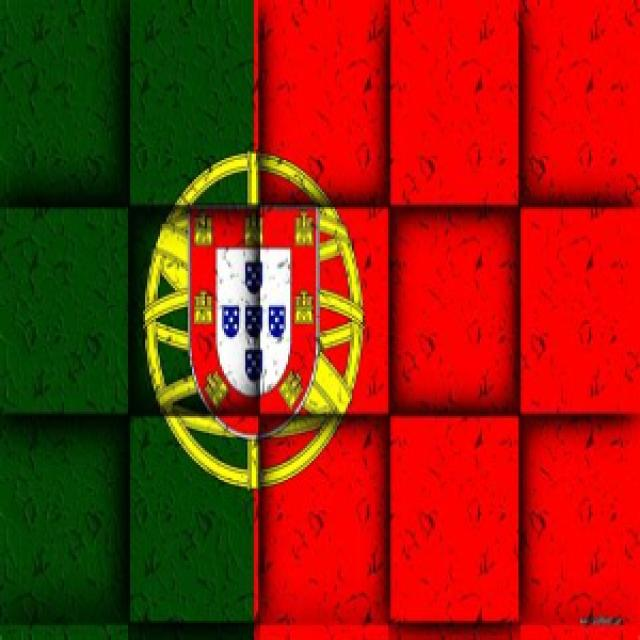portugal: (7, 4, 640, 640)
